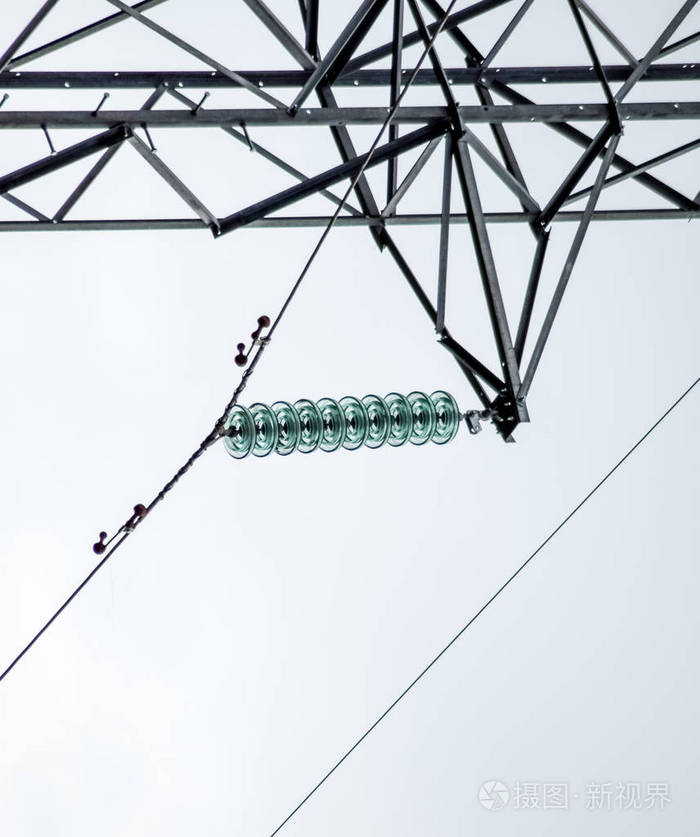insulator: (225, 392, 459, 464)
